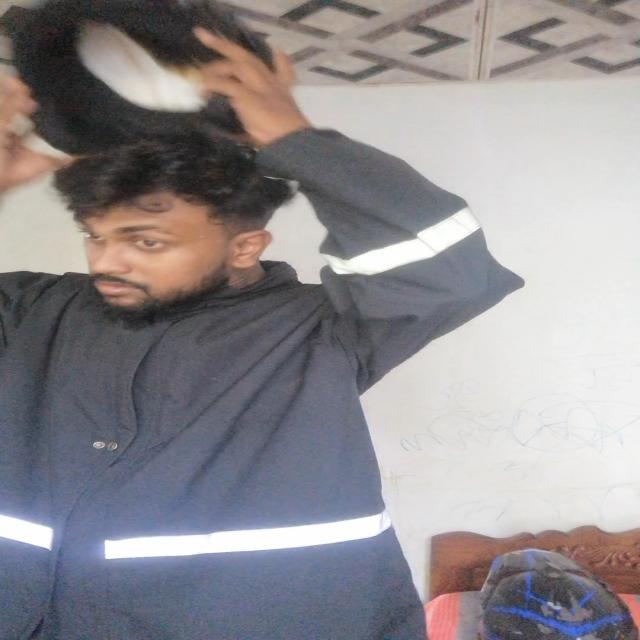Jacket_Wearer: (3, 261, 450, 640)
Person: (1, 122, 482, 640)
